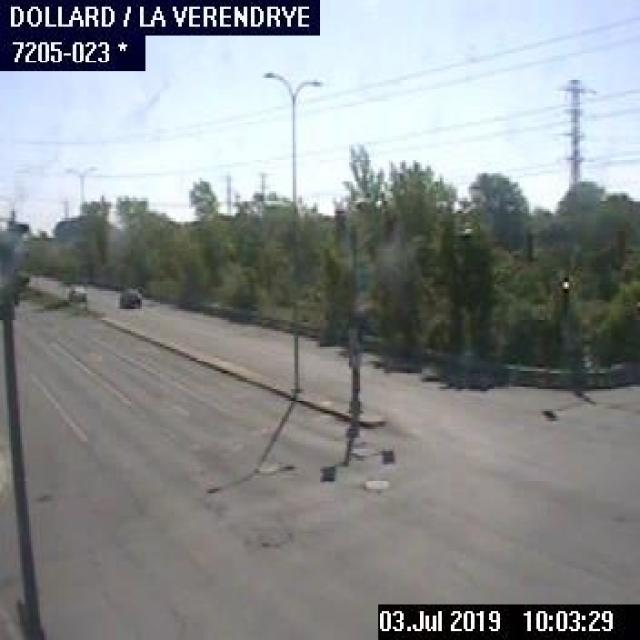vehicle: (117, 286, 140, 306), (67, 282, 89, 302)
